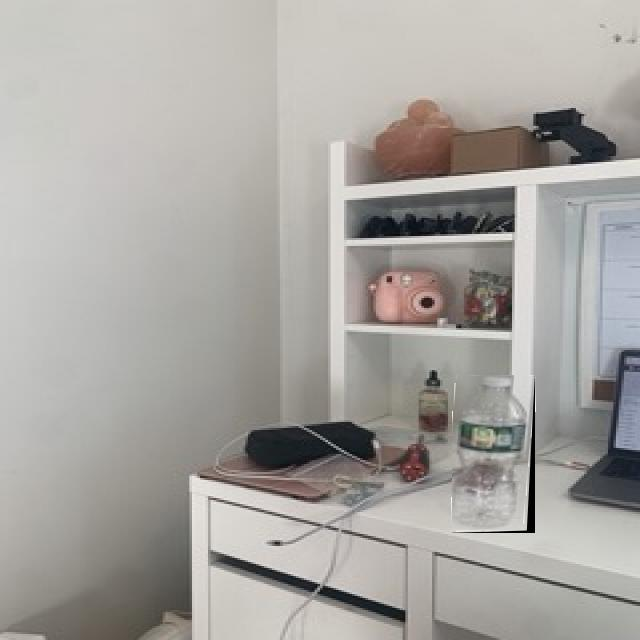water_bottle: (452, 375, 535, 533)
